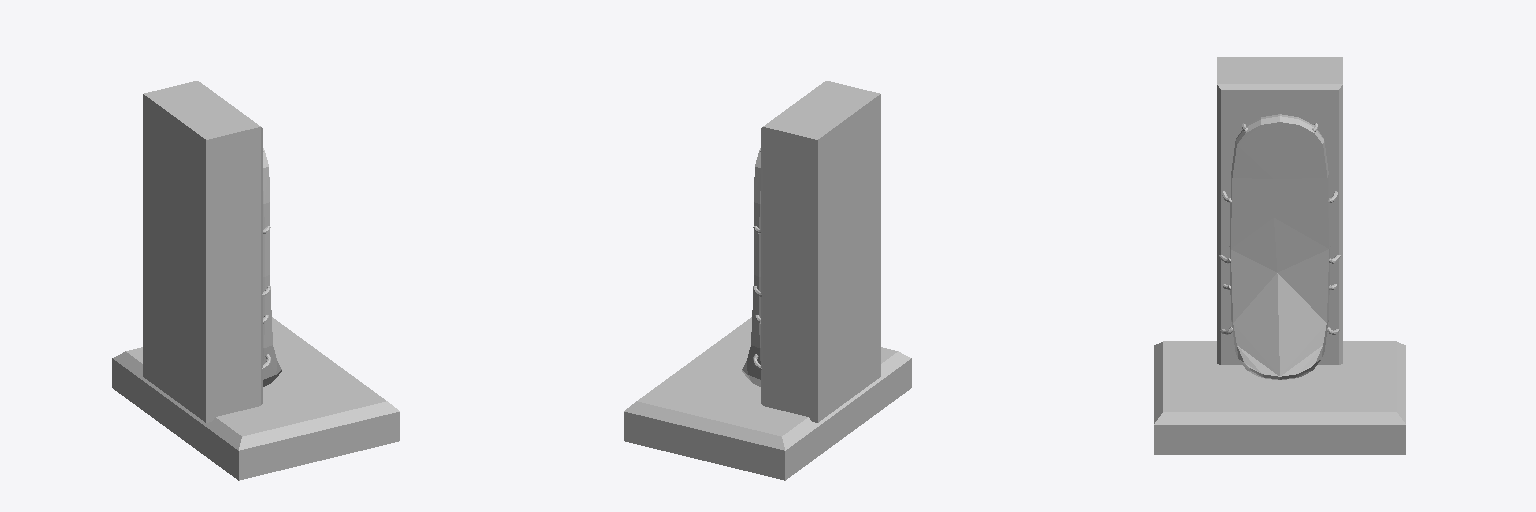
The model's file is krio baza.OBJ.
The picture shows the model from 3 angles: view 1: azimuth 30°, elevation 25°; view 2: azimuth 150°, elevation 25°; view 3: azimuth 270°, elevation 25°; orthographic projection.
Parts seen in each view (by area): view 1: Group64349; view 2: Group64349; view 3: Group64349.
Boxes of the visible parts, box(x1,y1,x2,y2) form: Group64349: box(112, 81, 399, 480); Group64349: box(624, 81, 911, 480); Group64349: box(1154, 57, 1405, 454).
Bounding box in the file's own units: 1.11 × 2.08 × 1.5.